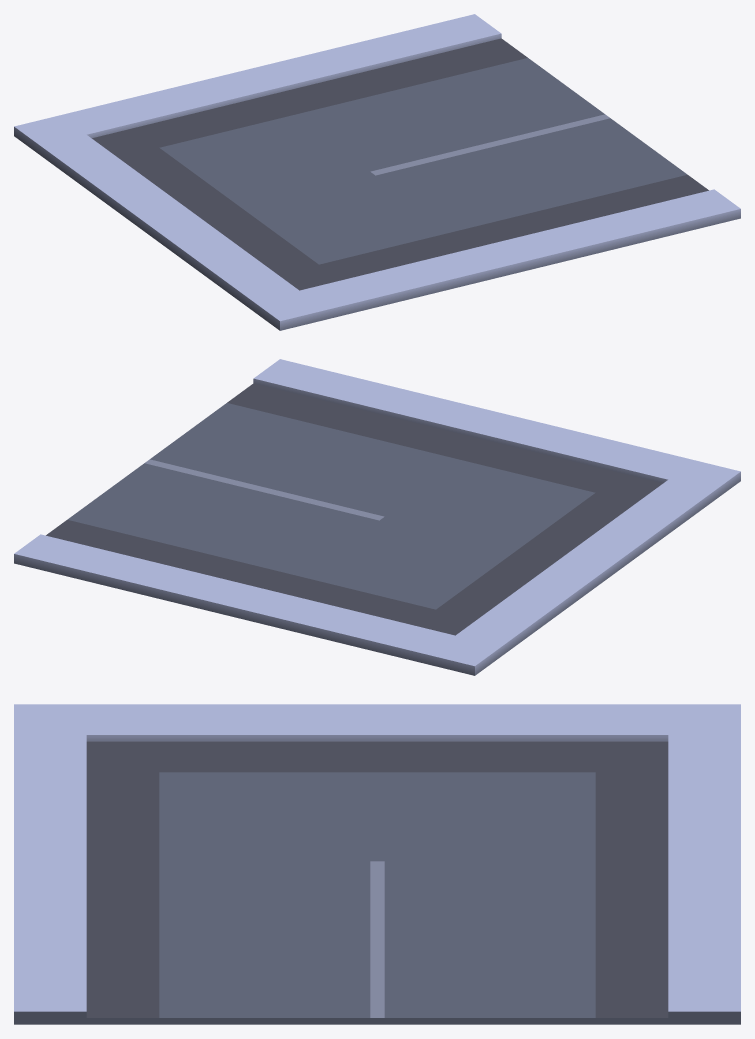
Rendered from road-end.glb.
The picture shows the model from 3 angles, top to bottom: view 1: azimuth 30°, elevation 25°; view 2: azimuth 150°, elevation 25°; view 3: azimuth 270°, elevation 25°; orthographic projection. The views are drawn at different scales.
Visible parts, largest first — view 1: road-end; view 2: road-end; view 3: road-end.
Boxes of the visible parts, x1,y1,x2,y2 form: road-end: [14, 14, 740, 330]; road-end: [14, 359, 740, 675]; road-end: [14, 704, 740, 1024].
Bounding box in the file's own units: 1 × 0.02 × 1.
Materials: 1 (1 with a texture image).
